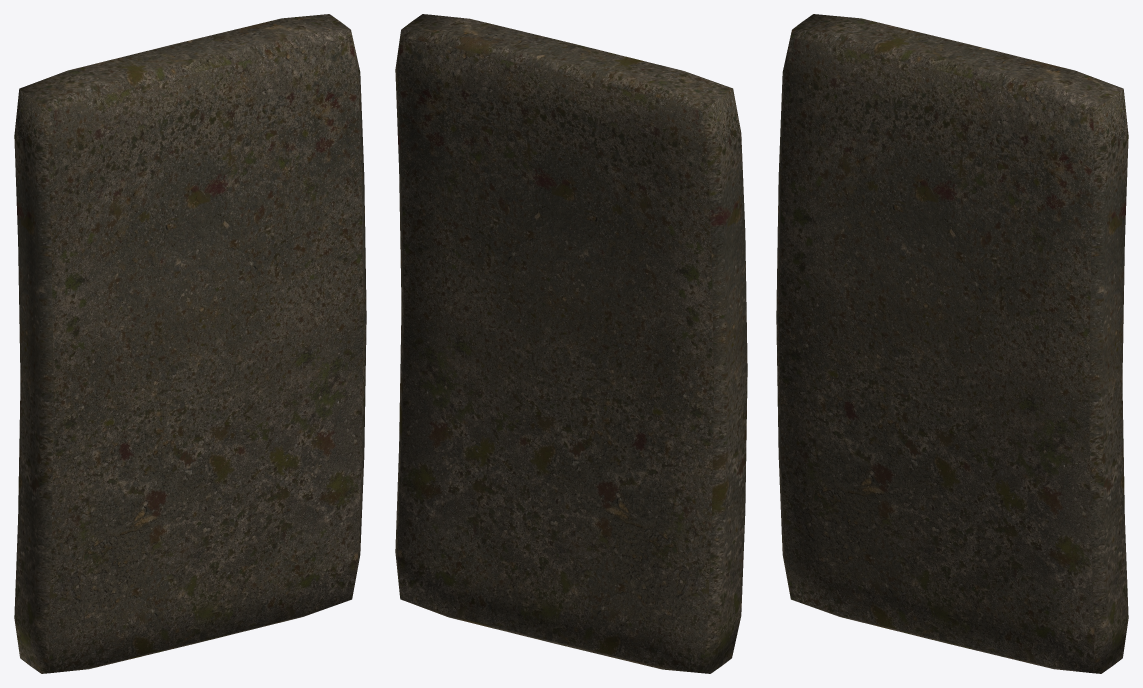
The model's file is Slab.fbx.
3 views of the same model, side by side, from view 1: azimuth 30°, elevation 25°; view 2: azimuth 150°, elevation 25°; view 3: azimuth 330°, elevation 25° (orthographic).
Visible parts, largest first — view 1: Cube; view 2: Cube; view 3: Cube.
Boxes of the visible parts, <box> form: Cube: <box>14,14,366,673</box>; Cube: <box>395,14,747,673</box>; Cube: <box>776,14,1128,673</box>.
Size of the model in its own units: 112 by 192 by 24.3.
